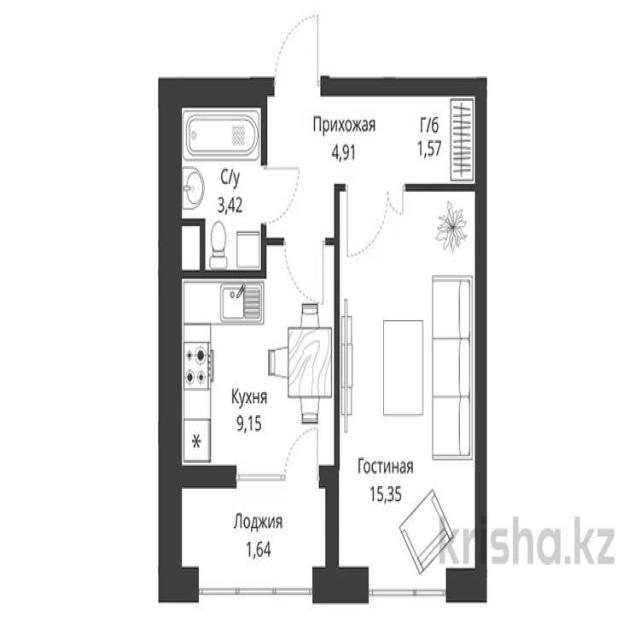balcony: (172, 479, 328, 590)
bathroom: (172, 272, 338, 481), (175, 102, 265, 276)
hallway: (265, 86, 410, 180), (266, 182, 334, 264)
living_room: (340, 188, 482, 592)
other: (413, 87, 478, 192)
